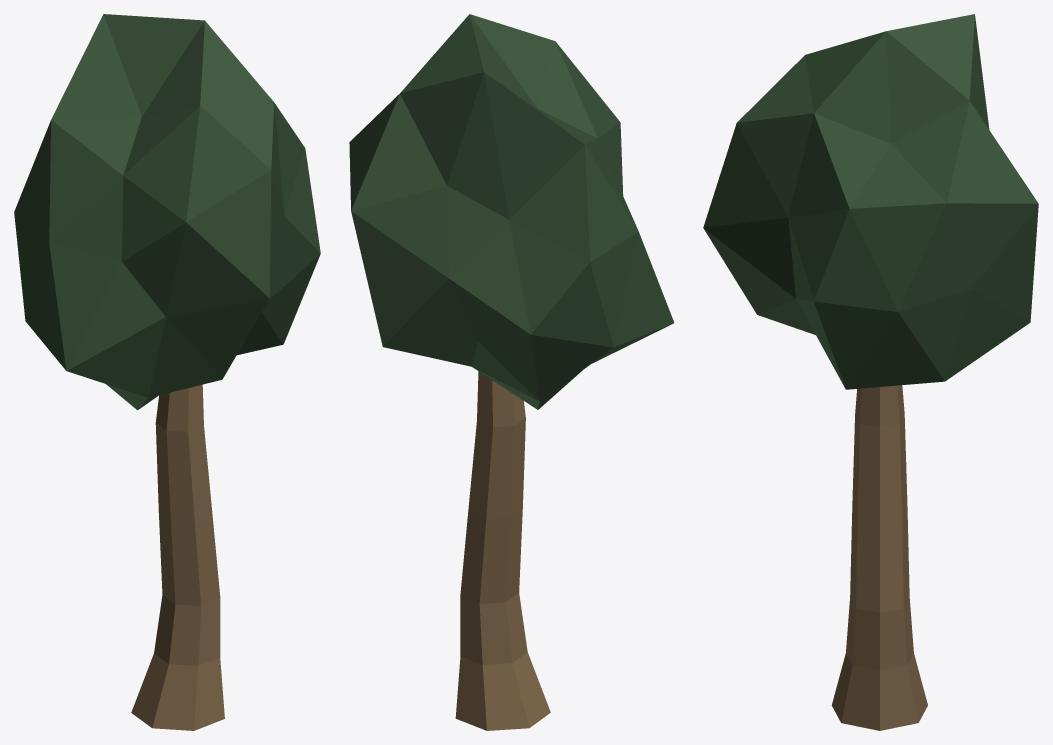
Rendered from tree.fbx.
The picture shows the model from 3 angles, left to right: view 1: azimuth 30°, elevation 25°; view 2: azimuth 150°, elevation 25°; view 3: azimuth 270°, elevation 25°; orthographic projection.
Visible parts, largest first — view 1: tree1; view 2: tree1; view 3: tree1.
Part boxes in pixels (<box>): tree1: <box>14,14,320,730</box>; tree1: <box>349,14,674,730</box>; tree1: <box>703,14,1038,730</box>.
Bounding box in the file's own units: 0.0558 × 0.1366 × 0.06.
